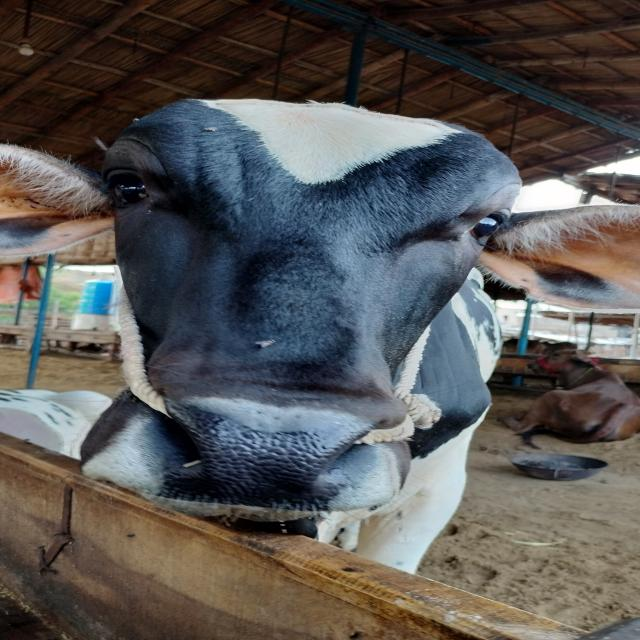muzzles: (131, 388, 404, 527)
